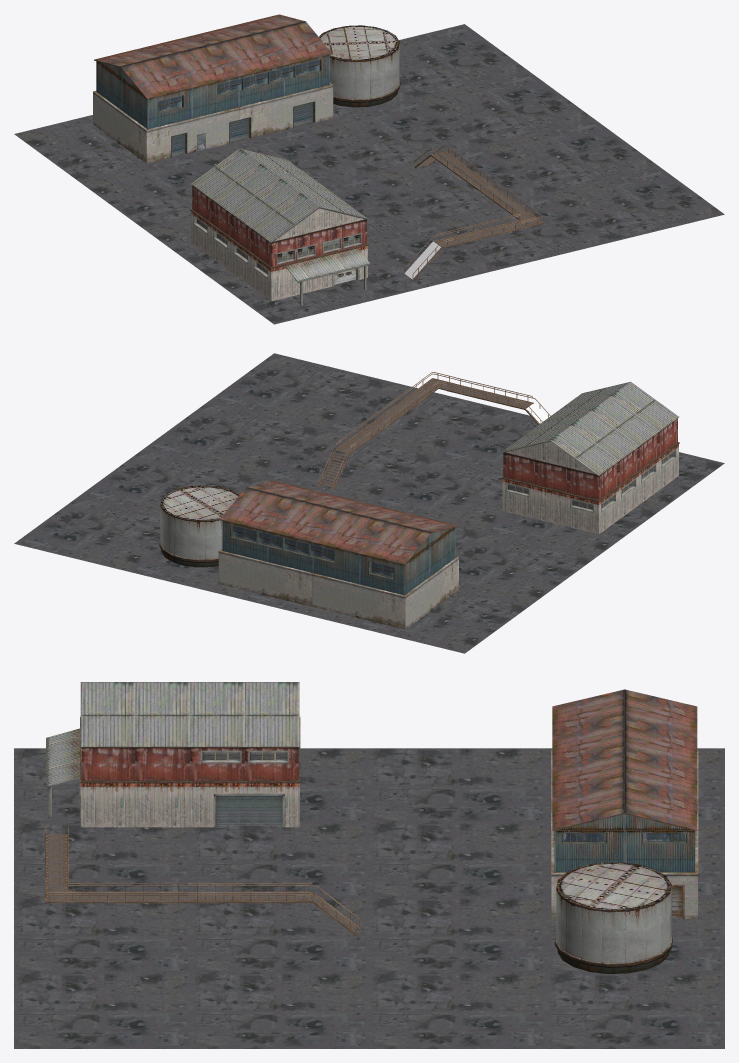
File: step3.gltf
The picture shows the model from 3 angles, top to bottom: view 1: azimuth 30°, elevation 25°; view 2: azimuth 150°, elevation 25°; view 3: azimuth 270°, elevation 25°; orthographic projection. The views are drawn at different scales.
Visible parts, largest first — view 1: Building_11, Building_6, Alphalt_Floor5, Alphalt_Floor7, Alphalt_Floor13, Alphalt_Floor14, Alphalt_Floor6, Alphalt_Floor8, Alphalt_Floor15, Alphalt_Floor2, Alphalt_Floor10, Liquid_reservoir_1 (+7 smaller); view 2: Building_11, Building_6, Alphalt_Floor5, Alphalt_Floor7, Alphalt_Floor15, Alphalt_Floor8, Alphalt_Floor10, Alphalt_Floor3, Alphalt_Floor6, Alphalt_Floor13, Liquid_reservoir_1, Alphalt_Floor12 (+6 smaller); view 3: Building_6, Building_11, Alphalt_Floor10, Alphalt_Floor9, Alphalt_Floor13, Alphalt_Floor14, Alphalt_Floor7, Alphalt_Floor5, Alphalt_Floor15, Alphalt_Floor6, Alphalt_Floor8, Alphalt_Floor3 (+13 smaller).
Part boxes in pixels (<box>): Building_11: <box>93,14,333,163</box>; Building_6: <box>190,148,370,305</box>; Alphalt_Floor5: <box>547,167,724,241</box>; Alphalt_Floor7: <box>482,119,659,194</box>; Alphalt_Floor13: <box>417,71,594,146</box>; Alphalt_Floor14: <box>305,99,481,174</box>; Alphalt_Floor6: <box>435,194,611,269</box>; Alphalt_Floor8: <box>370,147,546,221</box>; Alphalt_Floor15: <box>399,24,529,98</box>; Alphalt_Floor2: <box>363,222,498,296</box>; Alphalt_Floor10: <box>79,154,211,229</box>; Liquid_reservoir_1: <box>319,25,400,107</box>; Building_11: <box>218,480,458,629</box>; Building_6: <box>501,381,679,534</box>; Alphalt_Floor5: <box>209,353,386,428</box>; Alphalt_Floor7: <box>144,401,321,475</box>; Alphalt_Floor15: <box>14,496,160,570</box>; Alphalt_Floor8: <box>257,428,433,503</box>; Alphalt_Floor10: <box>455,531,594,605</box>; Alphalt_Floor3: <box>370,456,507,530</box>; Alphalt_Floor6: <box>322,381,499,455</box>; Alphalt_Floor13: <box>79,448,256,515</box>; Liquid_reservoir_1: <box>159,485,239,567</box>; Alphalt_Floor12: <box>352,589,529,653</box>; Building_6: <box>46,682,300,827</box>; Building_11: <box>551,689,698,919</box>; Alphalt_Floor10: <box>369,748,547,823</box>; Alphalt_Floor9: <box>369,823,547,898</box>; Alphalt_Floor13: <box>369,973,547,1048</box>; Alphalt_Floor14: <box>369,898,547,973</box>; Alphalt_Floor7: <box>191,973,369,1048</box>; Alphalt_Floor5: <box>14,973,191,1048</box>; Alphalt_Floor15: <box>547,973,724,1048</box>; Alphalt_Floor6: <box>14,898,191,973</box>; Alphalt_Floor8: <box>191,898,369,973</box>; Alphalt_Floor3: <box>191,823,369,898</box>.
Size of the model in its own units: 64 by 11.47 by 64.
Materials: 6 (5 with a texture image).
